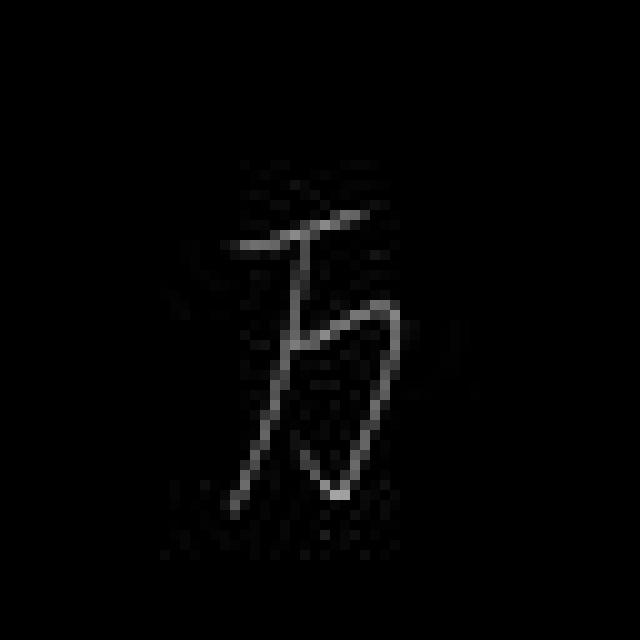10000 -a ten thousand-: (202, 194, 414, 520)
